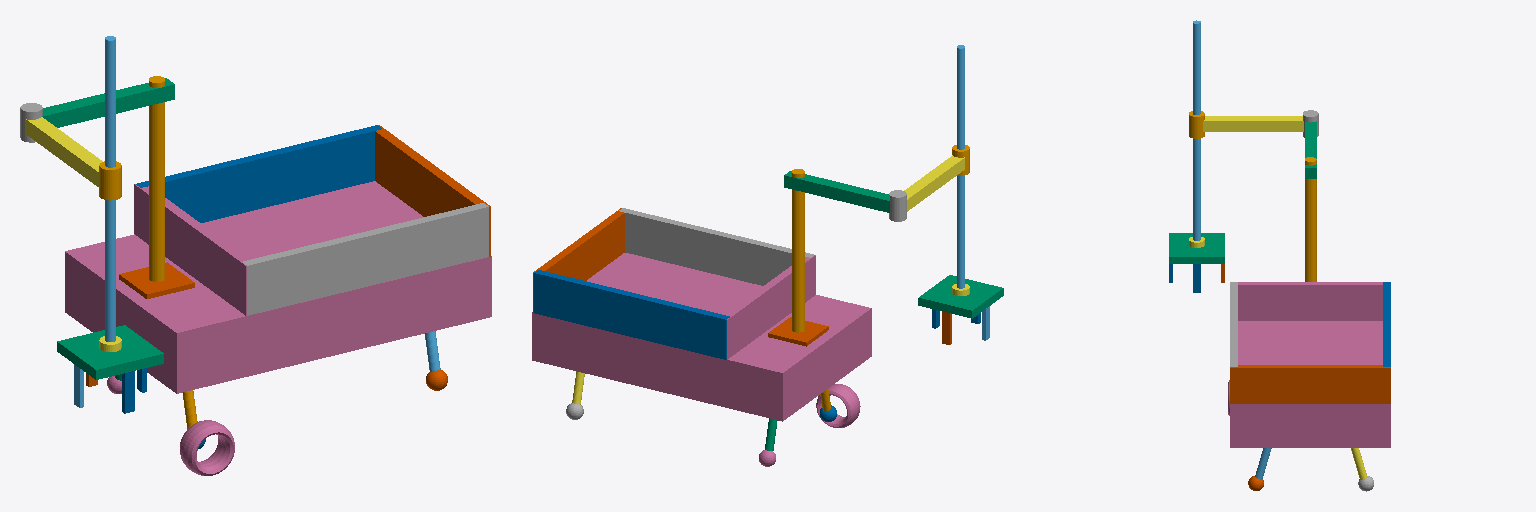
--- What the picture shows (computed from the rendered views, not written in the file) ---
The picture shows the robot from 3 angles, left to right: view 1: azimuth 30°, elevation 25°; view 2: azimuth 150°, elevation 25°; view 3: azimuth 270°, elevation 25°; orthographic projection.
Robot: robot — 34 links, 33 joints (3 revolute, 4 continuous, 5 prismatic, 21 fixed); root link chasis_link; default pose: all joints at 0.
Links seen in each view (by area): view 1: chasis_link, Cube_trailer_link, Cube_trailer_2_link, Cube_trailer_4_link, Cube_trailer_3_link, hand_cube_link, arm_cilynder_1_link, arm_cilynder_2_link, arm_cube_1_link, wheel_link, arm_cube_2_link, base_arm_cube_link (+1 smaller); view 2: chasis_link, Cube_trailer_2_link, Cube_trailer_link, Cube_trailer_4_link, Cube_trailer_3_link, hand_cube_link, arm_cilynder_1_link, arm_cube_1_link, arm_cilynder_2_link, arm_cube_2_link, wheel_link, base_arm_cube_link (+1 smaller); view 3: chasis_link, Cube_trailer_3_link, Cube_trailer_4_link, arm_cube_2_link, arm_cilynder_2_link, hand_cube_link, arm_cilynder_1_link, Cube_trailer_2_link, Cube_trailer_link, arm_cube_1_link.
Boxes of the visible links, <box> form: chasis_link: <box>65,181,491,393</box>; Cube_trailer_link: <box>243,203,488,315</box>; Cube_trailer_2_link: <box>136,125,381,222</box>; Cube_trailer_4_link: <box>134,184,249,315</box>; Cube_trailer_3_link: <box>375,125,490,256</box>; hand_cube_link: <box>57,325,163,379</box>; arm_cilynder_1_link: <box>149,76,164,281</box>; arm_cilynder_2_link: <box>105,36,115,341</box>; arm_cube_1_link: <box>42,78,174,127</box>; wheel_link: <box>180,420,234,475</box>; arm_cube_2_link: <box>26,117,102,186</box>; base_arm_cube_link: <box>119,262,194,298</box>; chasis_link: <box>532,253,871,421</box>; Cube_trailer_2_link: <box>534,270,729,359</box>; Cube_trailer_link: <box>619,208,814,285</box>; Cube_trailer_4_link: <box>725,255,815,359</box>; Cube_trailer_3_link: <box>533,208,624,312</box>; hand_cube_link: <box>918,275,1003,318</box>; arm_cilynder_1_link: <box>792,169,804,332</box>; arm_cube_1_link: <box>784,171,889,212</box>; arm_cilynder_2_link: <box>957,45,964,288</box>; arm_cube_2_link: <box>904,155,964,211</box>; wheel_link: <box>816,384,860,427</box>; base_arm_cube_link: <box>768,317,828,346</box>; chasis_link: <box>1230,321,1390,447</box>; Cube_trailer_3_link: <box>1230,365,1390,403</box>; Cube_trailer_4_link: <box>1238,282,1382,320</box>; arm_cube_2_link: <box>1203,116,1303,131</box>; arm_cilynder_2_link: <box>1193,20,1200,240</box>; hand_cube_link: <box>1169,233,1224,263</box>; arm_cilynder_1_link: <box>1305,157,1316,281</box>; Cube_trailer_2_link: <box>1383,282,1390,366</box>; Cube_trailer_link: <box>1230,282,1237,366</box>; arm_cube_1_link: <box>1305,121,1316,178</box>.
Size in the robot's own frame: 4.52 by 2.76 by 4.8 metres.
Meshes: 8 distinct files referenced, 1 mesh visuals loaded (1 Collada DAE); not drawn: 7 (reference not matched to a file when rendering).

URDF robot description (robot):
<robot name="robot" version="1.0">
  <joint name="Cone_link_joint" type="fixed">
    <origin rpy="1.57080 0.00000 0.00000" xyz="0.00000 -0.12479 0.00000"/>
    <parent link="Sphere_link"/>
    <child link="Cone_link"/>
  </joint>
  <joint name="Cone_w2_link_joint" type="fixed">
    <origin rpy="1.57080 0.00000 0.00000" xyz="-0.00000 -0.12479 -0.00000"/>
    <parent link="Sphere_w2_link"/>
    <child link="Cone_w2_link"/>
  </joint>
  <joint name="Cone_w3_link_joint" type="fixed">
    <origin rpy="1.57080 -0.00000 -0.00000" xyz="-0.00000 -0.12479 0.00000"/>
    <parent link="Sphere_w3_link"/>
    <child link="Cone_w3_link"/>
  </joint>
  <joint name="Cone_w4_link_joint" type="fixed">
    <origin rpy="1.57080 -0.00000 -0.00000" xyz="0.00000 -0.12479 -0.00000"/>
    <parent link="Sphere_w4_link"/>
    <child link="Cone_w4_link"/>
  </joint>
  <joint name="Cube_trailer_2_link_joint" type="fixed">
    <origin rpy="0.00000 0.00000 0.00000" xyz="0.35456 0.85200 0.70968"/>
    <parent link="chasis_link"/>
    <child link="Cube_trailer_2_link"/>
  </joint>
  <joint name="Cube_trailer_3_link_joint" type="fixed">
    <origin rpy="0.00000 0.00000 1.57080" xyz="1.57008 -0.09844 0.70917"/>
    <parent link="chasis_link"/>
    <child link="Cube_trailer_3_link"/>
  </joint>
  <joint name="Cube_trailer_4_link_joint" type="fixed">
    <origin rpy="0.00000 0.00000 1.57080" xyz="-0.85539 -0.09844 0.70917"/>
    <parent link="chasis_link"/>
    <child link="Cube_trailer_4_link"/>
  </joint>
  <joint name="Cube_trailer_link_joint" type="fixed">
    <origin rpy="0.00000 0.00000 0.00000" xyz="0.35456 -1.04857 0.70968"/>
    <parent link="chasis_link"/>
    <child link="Cube_trailer_link"/>
  </joint>
  <joint name="Cylinder_link_joint" type="fixed">
    <origin rpy="-0.26180 0.00000 0.00000" xyz="-1.25000 -0.65807 -0.39906"/>
    <parent link="chasis_link"/>
    <child link="Cylinder_link"/>
  </joint>
  <joint name="Cylinder_w2_link_joint" type="fixed">
    <origin rpy="-0.26180 0.00000 0.00000" xyz="1.25000 -0.65807 -0.39860"/>
    <parent link="chasis_link"/>
    <child link="Cylinder_w2_link"/>
  </joint>
  <joint name="Cylinder_w3_link_joint" type="fixed">
    <origin rpy="-0.26180 -0.00000 -3.14159" xyz="-1.25000 0.47479 -0.40695"/>
    <parent link="chasis_link"/>
    <child link="Cylinder_w3_link"/>
  </joint>
  <joint name="Cylinder_w4_link_joint" type="fixed">
    <origin rpy="-0.26180 -0.00000 -3.14159" xyz="1.25000 0.47479 -0.40719"/>
    <parent link="chasis_link"/>
    <child link="Cylinder_w4_link"/>
  </joint>
  <joint name="Sphere_link_joint" type="fixed">
    <origin rpy="0.26180 0.00000 0.00000" xyz="0.00000 -0.01047 -0.41352"/>
    <parent link="Cylinder_link"/>
    <child link="Sphere_link"/>
  </joint>
  <joint name="Sphere_w2_link_joint" type="fixed">
    <origin rpy="0.26180 0.00000 0.00000" xyz="0.00000 -0.01047 -0.41352"/>
    <parent link="Cylinder_w2_link"/>
    <child link="Sphere_w2_link"/>
  </joint>
  <joint name="Sphere_w3_link_joint" type="fixed">
    <origin rpy="0.26180 0.00000 0.00000" xyz="-0.00000 -0.01267 -0.40736"/>
    <parent link="Cylinder_w3_link"/>
    <child link="Sphere_w3_link"/>
  </joint>
  <joint name="Sphere_w4_link_joint" type="fixed">
    <origin rpy="0.26180 0.00000 0.00000" xyz="-0.00000 -0.01267 -0.40736"/>
    <parent link="Cylinder_w4_link"/>
    <child link="Sphere_w4_link"/>
  </joint>
  <joint name="arm_cilynder_1_link_joint" type="revolute">
    <limit lower="-3.14000" upper="3.14000" effort="0.00000" velocity="0.00000"/>
    <origin rpy="0.00000 0.00000 0.00000" xyz="0.00000 0.00000 0.76594"/>
    <parent link="base_arm_cube_link"/>
    <child link="arm_cilynder_1_link"/>
    <axis xyz="0.00000 0.00000 1.00000"/>
  </joint>
  <joint name="arm_cilynder_2_link_joint" type="prismatic">
    <limit lower="-1.20000" upper="1.30000" effort="0.00000" velocity="0.00000"/>
    <origin rpy="0.00000 0.00000 0.00000" xyz="0.00000 -0.00000 1.05000"/>
    <parent link="cylinder_jnt_2_link"/>
    <child link="arm_cilynder_2_link"/>
    <axis xyz="0.00000 0.00000 1.00000"/>
  </joint>
  <joint name="arm_cube_1_link_joint" type="fixed">
    <origin rpy="0.00000 0.00000 0.00000" xyz="-0.60749 0.00000 0.58880"/>
    <parent link="arm_cilynder_1_link"/>
    <child link="arm_cube_1_link"/>
  </joint>
  <joint name="arm_cube_2_link_joint" type="fixed">
    <origin rpy="0.00000 0.00000 1.57080" xyz="-0.01161 -0.70550 0.00000"/>
    <parent link="cylinder_jnt_1_link"/>
    <child link="arm_cube_2_link"/>
  </joint>
  <joint name="back_finger_link_joint" type="prismatic">
    <limit lower="0.06000" upper="0.00000" effort="0.00000" velocity="0.00000"/>
    <origin rpy="0.00000 0.00000 1.57080" xyz="0.32481 -0.00033 -0.24871"/>
    <parent link="hand_cube_link"/>
    <child link="back_finger_link"/>
    <axis xyz="0.00000 1.00000 0.00000"/>
  </joint>
  <joint name="base_arm_cube_link_joint" type="fixed">
    <origin rpy="0.00000 0.00000 0.00000" xyz="-1.25000 -0.10000 0.48960"/>
    <parent link="chasis_link"/>
    <child link="base_arm_cube_link"/>
  </joint>
  <joint name="cylinder_jnt_1_link_joint" type="revolute">
    <limit lower="-4.34000" upper="1.20000" effort="0.00000" velocity="0.00000"/>
    <origin rpy="0.00000 0.00000 0.00000" xyz="-0.68724 0.00000 0.50820"/>
    <parent link="arm_cube_1_link"/>
    <child link="cylinder_jnt_1_link"/>
    <axis xyz="0.00000 0.00000 1.00000"/>
  </joint>
  <joint name="cylinder_jnt_2_link_joint" type="fixed">
    <origin rpy="0.00000 0.00000 -1.57080" xyz="-0.70726 -0.01063 0.00000"/>
    <parent link="arm_cube_2_link"/>
    <child link="cylinder_jnt_2_link"/>
  </joint>
  <joint name="front_finger_link_joint" type="prismatic">
    <limit lower="0.06000" upper="0.00000" effort="0.00000" velocity="0.00000"/>
    <origin rpy="0.00000 0.00000 1.57080" xyz="-0.32415 -0.00033 -0.24741"/>
    <parent link="hand_cube_link"/>
    <child link="front_finger_link"/>
    <axis xyz="0.00000 1.00000 0.00000"/>
  </joint>
  <joint name="hand_cube_link_joint" type="fixed">
    <origin rpy="0.00000 0.00000 0.00000" xyz="0.00000 -0.00000 -0.07303"/>
    <parent link="hand_cylinder_link"/>
    <child link="hand_cube_link"/>
  </joint>
  <joint name="hand_cylinder_link_joint" type="revolute">
    <limit lower="-3.14000" upper="3.14000" effort="0.00000" velocity="0.00000"/>
    <origin rpy="0.00000 0.00000 0.00000" xyz="0.00000 -0.00000 -2.67343"/>
    <parent link="arm_cilynder_2_link"/>
    <child link="hand_cylinder_link"/>
    <axis xyz="0.00000 0.00000 1.00000"/>
  </joint>
  <joint name="left_finger_link_joint" type="prismatic">
    <limit lower="0.06000" upper="0.00000" effort="0.00000" velocity="0.00000"/>
    <origin rpy="0.00000 0.00000 0.00000" xyz="-0.00429 -0.32443 -0.19256"/>
    <parent link="hand_cube_link"/>
    <child link="left_finger_link"/>
    <axis xyz="0.00000 1.00000 0.00000"/>
  </joint>
  <joint name="right_finger_link_joint" type="prismatic">
    <limit lower="0.06000" upper="0.00000" effort="0.00000" velocity="0.00000"/>
    <origin rpy="0.00000 0.00000 0.00000" xyz="-0.00429 0.32378 -0.19256"/>
    <parent link="hand_cube_link"/>
    <child link="right_finger_link"/>
    <axis xyz="0.00000 1.00000 0.00000"/>
  </joint>
  <joint name="wheel_link_joint" type="continuous">
    <limit lower="0" upper="0" effort="0.00000" velocity="0.00000"/>
    <origin rpy="0.00000 0.00000 0.00000" xyz="0.00000 0.00000 0.10000"/>
    <parent link="Cone_link"/>
    <child link="wheel_link"/>
    <axis xyz="0.00000 0.00000 1.00000"/>
  </joint>
  <joint name="wheel_w2_link_joint" type="continuous">
    <limit lower="0" upper="0" effort="0.00000" velocity="0.00000"/>
    <origin rpy="0.00000 0.00000 0.00000" xyz="0.00000 0.00000 0.10000"/>
    <parent link="Cone_w2_link"/>
    <child link="wheel_w2_link"/>
    <axis xyz="0.00000 0.00000 1.00000"/>
  </joint>
  <joint name="wheel_w3_link_joint" type="continuous">
    <limit lower="0" upper="0" effort="0.00000" velocity="0.00000"/>
    <origin rpy="-0.00000 0.00000 -0.00000" xyz="-0.00000 -0.00000 0.10000"/>
    <parent link="Cone_w3_link"/>
    <child link="wheel_w3_link"/>
    <axis xyz="0.00000 0.00000 1.00000"/>
  </joint>
  <joint name="wheel_w4_link_joint" type="continuous">
    <limit lower="0" upper="0" effort="0.00000" velocity="0.00000"/>
    <origin rpy="-0.00000 0.00000 -0.00000" xyz="0.00000 -0.00000 0.10000"/>
    <parent link="Cone_w4_link"/>
    <child link="wheel_w4_link"/>
    <axis xyz="0.00000 0.00000 1.00000"/>
  </joint>
  <link name="Cone_link">
    <collision name="Cone_collision">
      <origin rpy="0.00000 0.00000 0.00000" xyz="0.00000 0.00000 0.00000"/>
      <geometry>
        <mesh filename="../meshes/dae/Cone.001.dae" scale="0.10000 0.10000 0.10000"/>
      </geometry>
    </collision>
    <inertial>
      <inertia ixx="0.00148" ixy="0.00000" ixz="-0.00000" iyy="0.00089" iyz="-0.00000" izz="0.00148"/>
      <origin rpy="0.00000 0.00000 0.00000" xyz="0.00000 -0.00000 -0.05000"/>
      <mass value="0.30000"/>
    </inertial>
    <visual name="Cone">
      <origin rpy="0.00000 0.00000 0.00000" xyz="0.00000 -0.00000 0.00000"/>
      <geometry>
        <mesh filename="../meshes/dae/Cone.001.dae" scale="0.10000 0.10000 0.10000"/>
      </geometry>
    </visual>
  </link>
  <link name="Cone_w2_link">
    <collision name="Cone_w2_collision">
      <origin rpy="0.00000 0.00000 0.00000" xyz="0.00000 -0.00000 -0.00000"/>
      <geometry>
        <mesh filename="../meshes/dae/Cone.002.dae" scale="0.10000 0.10000 0.10000"/>
      </geometry>
    </collision>
    <inertial>
      <inertia ixx="0.00148" ixy="0.00000" ixz="-0.00000" iyy="0.00089" iyz="-0.00000" izz="0.00148"/>
      <origin rpy="0.00000 0.00000 0.00000" xyz="0.00000 -0.00000 -0.05000"/>
      <mass value="0.30000"/>
    </inertial>
    <visual name="Cone_w2">
      <origin rpy="0.00000 0.00000 0.00000" xyz="0.00000 -0.00000 -0.00000"/>
      <geometry>
        <mesh filename="../meshes/dae/Cone.002.dae" scale="0.10000 0.10000 0.10000"/>
      </geometry>
    </visual>
  </link>
  <link name="Cone_w3_link">
    <collision name="Cone_w3_collision">
      <origin rpy="0.00000 0.00000 -3.14159" xyz="0.00000 -0.00000 0.00000"/>
      <geometry>
        <mesh filename="../meshes/dae/Cone.003.dae" scale="0.10000 0.10000 0.10000"/>
      </geometry>
    </collision>
    <inertial>
      <inertia ixx="0.00148" ixy="0.00000" ixz="0.00000" iyy="0.00089" iyz="0.00000" izz="0.00148"/>
      <origin rpy="0.00000 0.00000 0.00000" xyz="0.00000 -0.00000 -0.05000"/>
      <mass value="0.30000"/>
    </inertial>
    <visual name="Cone_w3">
      <origin rpy="-0.00000 0.00000 -0.00000" xyz="0.00000 -0.00000 0.00000"/>
      <geometry>
        <mesh filename="../meshes/dae/Cone.003.dae" scale="0.10000 0.10000 0.10000"/>
      </geometry>
    </visual>
  </link>
  <link name="Cone_w4_link">
    <collision name="Cone_w4_collision">
      <origin rpy="0.00000 0.00000 -3.14159" xyz="0.00000 -0.00000 0.00000"/>
      <geometry>
        <mesh filename="../meshes/dae/Cone.007.dae" scale="0.10000 0.10000 0.10000"/>
      </geometry>
    </collision>
    <inertial>
      <inertia ixx="0.00148" ixy="0.00000" ixz="0.00000" iyy="0.00089" iyz="0.00000" izz="0.00148"/>
      <origin rpy="0.00000 0.00000 0.00000" xyz="0.00000 -0.00000 -0.05000"/>
      <mass value="0.30000"/>
    </inertial>
    <visual name="Cone_w4">
      <origin rpy="-0.00000 0.00000 -0.00000" xyz="0.00000 -0.00000 0.00000"/>
      <geometry>
        <mesh filename="../meshes/dae/Cone.007.dae" scale="0.10000 0.10000 0.10000"/>
      </geometry>
    </visual>
  </link>
  <link name="Cube_trailer_2_link">
    <collision name="Cube_trailer_2_collision">
      <origin rpy="0.00000 0.00000 0.00000" xyz="0.00000 0.00000 0.00000"/>
      <geometry>
        <box size="2.50000 0.10000 0.50000"/>
      </geometry>
    </collision>
    <inertial>
      <inertia ixx="0.65000" ixy="0.00000" ixz="0.00000" iyy="16.25000" iyz="0.00000" izz="15.65000"/>
      <origin rpy="0.00000 0.00000 0.00000" xyz="0.00000 -0.00000 0.00000"/>
      <mass value="30.00000"/>
    </inertial>
    <visual name="Cube_trailer_2">
      <origin rpy="0.00000 0.00000 0.00000" xyz="-0.00000 -0.00000 0.00000"/>
      <geometry>
        <box size="2.50000 0.10000 0.50000"/>
      </geometry>
    </visual>
  </link>
  <link name="Cube_trailer_3_link">
    <collision name="Cube_trailer_3_collision">
      <origin rpy="0.00000 0.00000 0.00000" xyz="-0.00000 -0.00000 0.00000"/>
      <geometry>
        <box size="2.00000 0.10000 0.50000"/>
      </geometry>
    </collision>
    <inertial>
      <inertia ixx="7.08333" ixy="0.00000" ixz="0.00000" iyy="0.43333" iyz="0.00000" izz="6.68333"/>
      <origin rpy="0.00000 0.00000 0.00000" xyz="-0.00000 0.00000 0.00000"/>
      <mass value="20.00000"/>
    </inertial>
    <visual name="Cube_trailer_3">
      <origin rpy="0.00000 0.00000 0.00000" xyz="-0.00000 0.00000 0.00000"/>
      <geometry>
        <box size="2.00000 0.10000 0.50000"/>
      </geometry>
    </visual>
  </link>
  <link name="Cube_trailer_4_link">
    <collision name="Cube_trailer_4_collision">
      <origin rpy="0.00000 0.00000 0.00000" xyz="-0.00000 0.00000 0.00000"/>
      <geometry>
        <box size="2.00000 0.10000 0.50000"/>
      </geometry>
    </collision>
    <inertial>
      <inertia ixx="7.08333" ixy="0.00000" ixz="0.00000" iyy="0.43333" iyz="0.00000" izz="6.68333"/>
      <origin rpy="0.00000 0.00000 0.00000" xyz="0.00000 0.00000 0.00000"/>
      <mass value="20.00000"/>
    </inertial>
    <visual name="Cube_trailer_4">
      <origin rpy="0.00000 0.00000 0.00000" xyz="-0.00000 0.00000 0.00000"/>
      <geometry>
        <box size="2.00000 0.10000 0.50000"/>
      </geometry>
    </visual>
  </link>
  <link name="Cube_trailer_link">
    <collision name="Cube_trailer_collision">
      <origin rpy="0.00000 0.00000 0.00000" xyz="0.00000 0.00000 0.00000"/>
      <geometry>
        <box size="2.50000 0.10000 0.50000"/>
      </geometry>
    </collision>
    <inertial>
      <inertia ixx="0.65000" ixy="0.00000" ixz="0.00000" iyy="16.25000" iyz="0.00000" izz="15.65000"/>
      <origin rpy="0.00000 0.00000 0.00000" xyz="0.00000 0.00000 0.00000"/>
      <mass value="30.00000"/>
    </inertial>
    <visual name="Cube_trailer">
      <origin rpy="0.00000 0.00000 0.00000" xyz="-0.00000 0.00000 0.00000"/>
      <geometry>
        <box size="2.50000 0.10000 0.50000"/>
      </geometry>
    </visual>
  </link>
  <link name="Cylinder_link">
    <collision name="Cylinder_collision">
      <origin rpy="0.00000 0.00000 0.00000" xyz="0.00000 0.00000 0.00000"/>
      <geometry>
        <cylinder radius="0.05000" length="0.75000"/>
      </geometry>
    </collision>
    <inertial>
      <inertia ixx="0.03800" ixy="0.00000" ixz="0.00000" iyy="0.03552" iyz="-0.00925" izz="0.00348"/>
      <origin rpy="0.00000 0.00000 0.00000" xyz="0.00000 0.00000 -0.00000"/>
      <mass value="0.80000"/>
    </inertial>
    <visual name="Cylinder">
      <origin rpy="0.00000 0.00000 0.00000" xyz="0.00000 0.00000 -0.00000"/>
      <geometry>
        <cylinder radius="0.05000" length="0.75000"/>
      </geometry>
    </visual>
  </link>
  <link name="Cylinder_w2_link">
    <collision name="Cylinder_w2_collision">
      <origin rpy="0.00000 0.00000 0.00000" xyz="0.00000 0.00000 -0.00000"/>
      <geometry>
        <cylinder radius="0.05000" length="0.75000"/>
      </geometry>
    </collision>
    <inertial>
      <inertia ixx="0.03800" ixy="0.00000" ixz="0.00000" iyy="0.03552" iyz="-0.00925" izz="0.00348"/>
      <origin rpy="0.00000 0.00000 0.00000" xyz="0.00000 0.00000 -0.00000"/>
      <mass value="0.80000"/>
    </inertial>
    <visual name="Cylinder_w2">
      <origin rpy="0.00000 0.00000 0.00000" xyz="0.00000 0.00000 -0.00000"/>
      <geometry>
        <cylinder radius="0.05000" length="0.75000"/>
      </geometry>
    </visual>
  </link>
  <link name="Cylinder_w3_link">
    <collision name="Cylinder_w3_collision">
      <origin rpy="-0.00000 -0.00000 3.14159" xyz="0.00000 -0.00000 0.00000"/>
      <geometry>
        <cylinder radius="0.05000" length="0.75000"/>
      </geometry>
    </collision>
    <inertial>
      <inertia ixx="0.03800" ixy="0.00000" ixz="-0.00000" iyy="0.03552" iyz="0.00925" izz="0.00348"/>
      <origin rpy="0.00000 0.00000 0.00000" xyz="0.00000 -0.00000 0.00000"/>
      <mass value="0.80000"/>
    </inertial>
    <visual name="Cylinder_w3">
      <origin rpy="0.00000 -0.00000 0.00000" xyz="0.00000 -0.00000 0.00000"/>
      <geometry>
        <cylinder radius="0.05000" length="0.75000"/>
      </geometry>
    </visual>
  </link>
  <link name="Cylinder_w4_link">
    <collision name="Cylinder_w4_collision">
      <origin rpy="-0.00000 -0.00000 3.14159" xyz="-0.00000 0.00000 0.00000"/>
      <geometry>
        <cylinder radius="0.05000" length="0.75000"/>
      </geometry>
    </collision>
    <inertial>
      <inertia ixx="0.03800" ixy="0.00000" ixz="-0.00000" iyy="0.03552" iyz="0.00925" izz="0.00348"/>
      <origin rpy="0.00000 0.00000 0.00000" xyz="-0.00000 0.00000 0.00000"/>
      <mass value="0.80000"/>
    </inertial>
    <visual name="Cylinder_w4">
      <origin rpy="0.00000 -0.00000 0.00000" xyz="-0.00000 -0.00000 0.00000"/>
      <geometry>
        <cylinder radius="0.05000" length="0.75000"/>
      </geometry>
    </visual>
  </link>
  <link name="Sphere_link">
    <collision name="Sphere_collision">
      <origin rpy="0.00000 0.00000 0.00000" xyz="0.00000 0.00000 0.00000"/>
      <geometry>
        <sphere radius="0.10000"/>
      </geometry>
    </collision>
    <inertial>
      <inertia ixx="0.00120" ixy="0.00000" ixz="0.00000" iyy="0.00120" iyz="0.00000" izz="0.00120"/>
      <origin rpy="0.00000 0.00000 0.00000" xyz="0.00000 0.00000 0.00000"/>
      <mass value="0.30000"/>
    </inertial>
    <visual name="Sphere">
      <origin rpy="0.00000 0.00000 0.00000" xyz="0.00000 0.00000 0.00000"/>
      <geometry>
        <sphere radius="0.10000"/>
      </geometry>
    </visual>
  </link>
  <link name="Sphere_w2_link">
    <collision name="Sphere_w2_collision">
      <origin rpy="0.00000 0.00000 0.00000" xyz="-0.00000 -0.00000 -0.00000"/>
      <geometry>
        <sphere radius="0.10000"/>
      </geometry>
    </collision>
    <inertial>
      <inertia ixx="0.00120" ixy="0.00000" ixz="0.00000" iyy="0.00120" iyz="0.00000" izz="0.00120"/>
      <origin rpy="0.00000 0.00000 0.00000" xyz="-0.00000 -0.00000 0.00000"/>
      <mass value="0.30000"/>
    </inertial>
    <visual name="Sphere_w2">
      <origin rpy="0.00000 0.00000 0.00000" xyz="-0.00000 -0.00000 0.00000"/>
      <geometry>
        <sphere radius="0.10000"/>
      </geometry>
    </visual>
  </link>
  <link name="Sphere_w3_link">
    <collision name="Sphere_w3_collision">
      <origin rpy="0.00000 0.00000 3.14159" xyz="0.00000 -0.00000 -0.00000"/>
      <geometry>
        <sphere radius="0.10000"/>
      </geometry>
    </collision>
    <inertial>
      <inertia ixx="0.00120" ixy="0.00000" ixz="0.00000" iyy="0.00120" iyz="-0.00000" izz="0.00120"/>
      <origin rpy="0.00000 0.00000 0.00000" xyz="0.00000 -0.00000 -0.00000"/>
      <mass value="0.30000"/>
    </inertial>
    <visual name="Sphere_w3">
      <origin rpy="0.00000 0.00000 0.00000" xyz="0.00000 -0.00000 -0.00000"/>
      <geometry>
        <sphere radius="0.10000"/>
      </geometry>
    </visual>
  </link>
  <link name="Sphere_w4_link">
    <collision name="Sphere_w4_collision">
      <origin rpy="0.00000 0.00000 3.14159" xyz="0.00000 -0.00000 -0.00000"/>
      <geometry>
        <sphere radius="0.10000"/>
      </geometry>
    </collision>
    <inertial>
      <inertia ixx="0.00120" ixy="0.00000" ixz="0.00000" iyy="0.00120" iyz="-0.00000" izz="0.00120"/>
      <origin rpy="0.00000 0.00000 0.00000" xyz="0.00000 -0.00000 -0.00000"/>
      <mass value="0.30000"/>
    </inertial>
    <visual name="Sphere_w4">
      <origin rpy="0.00000 0.00000 0.00000" xyz="0.00000 -0.00000 -0.00000"/>
      <geometry>
        <sphere radius="0.10000"/>
      </geometry>
    </visual>
  </link>
  <link name="arm_cilynder_1_link">
    <collision name="arm_cilynder_1_collision">
      <origin rpy="0.00000 0.00000 0.00000" xyz="-0.00000 -0.00000 0.22080"/>
      <geometry>
        <cylinder radius="0.07500" length="2.00000"/>
      </geometry>
    </collision>
    <inertial>
      <inertia ixx="0.28336" ixy="0.00000" ixz="0.00000" iyy="0.28336" iyz="0.00000" izz="0.00422"/>
      <origin rpy="0.00000 0.00000 0.00000" xyz="-0.00000 0.00000 0.00000"/>
      <mass value="1.50000"/>
    </inertial>
    <visual name="arm_cilynder_1">
      <origin rpy="0.00000 0.00000 0.00000" xyz="-0.00000 -0.00000 0.22080"/>
      <geometry>
        <cylinder radius="0.07500" length="2.00000"/>
      </geometry>
    </visual>
  </link>
  <link name="arm_cilynder_2_link">
    <collision name="arm_cilynder_2_collision">
      <origin rpy="0.00000 0.00000 0.00000" xyz="0.00000 -0.00000 -1.14646"/>
      <geometry>
        <cylinder radius="0.05000" length="3.00000"/>
      </geometry>
    </collision>
    <inertial>
      <inertia ixx="1.12594" ixy="0.00000" ixz="0.00000" iyy="1.12594" iyz="0.00000" izz="0.00188"/>
      <origin rpy="0.00000 0.00000 0.00000" xyz="0.00000 -0.00000 0.00000"/>
      <mass value="1.50000"/>
    </inertial>
    <visual name="arm_cilynder_2">
      <origin rpy="0.00000 0.00000 0.00000" xyz="-0.00000 -0.00000 -1.14646"/>
      <geometry>
        <cylinder radius="0.05000" length="3.00000"/>
      </geometry>
    </visual>
  </link>
  <link name="arm_cube_1_link">
    <collision name="arm_cube_1_collision">
      <origin rpy="0.00000 0.00000 0.00000" xyz="-0.00000 0.00000 0.50820"/>
      <geometry>
        <box size="1.50000 0.15000 0.15000"/>
      </geometry>
    </collision>
    <inertial>
      <inertia ixx="0.00563" ixy="0.00000" ixz="0.00000" iyy="0.28406" iyz="0.00000" izz="0.28406"/>
      <origin rpy="0.00000 0.00000 0.00000" xyz="-0.00000 0.00000 0.00000"/>
      <mass value="1.50000"/>
    </inertial>
    <visual name="arm_cube_1">
      <origin rpy="0.00000 0.00000 0.00000" xyz="-0.00000 -0.00000 0.50820"/>
      <geometry>
        <box size="1.50000 0.15000 0.15000"/>
      </geometry>
    </visual>
  </link>
  <link name="arm_cube_2_link">
    <collision name="arm_cube_2_collision">
      <origin rpy="0.00000 0.00000 0.00000" xyz="-0.00000 0.00000 0.00000"/>
      <geometry>
        <box size="1.50000 0.15000 0.15000"/>
      </geometry>
    </collision>
    <inertial>
      <inertia ixx="0.28406" ixy="0.00000" ixz="0.00000" iyy="0.00563" iyz="0.00000" izz="0.28406"/>
      <origin rpy="0.00000 0.00000 0.00000" xyz="-0.00000 0.00000 0.00000"/>
      <mass value="1.50000"/>
    </inertial>
    <visual name="arm_cube_2">
      <origin rpy="0.00000 0.00000 0.00000" xyz="-0.00000 0.00000 0.00000"/>
      <geometry>
        <box size="1.50000 0.15000 0.15000"/>
      </geometry>
    </visual>
  </link>
  <link name="back_finger_link">
    <collision name="back_finger_collision">
      <origin rpy="0.00000 0.00000 0.00000" xyz="-0.00000 0.00000 0.00000"/>
      <geometry>
        <box size="0.10000 0.05000 0.40000"/>
      </geometry>
    </collision>
    <inertial>
      <inertia ixx="0.00142" ixy="0.00000" ixz="0.00000" iyy="0.00135" iyz="0.00000" izz="0.00010"/>
      <origin rpy="0.00000 0.00000 0.00000" xyz="-0.00000 0.00000 0.00000"/>
      <mass value="0.10000"/>
    </inertial>
    <visual name="back_finger">
      <origin rpy="0.00000 0.00000 0.00000" xyz="0.00000 0.00000 0.00000"/>
      <geometry>
        <box size="0.10000 0.05000 0.40000"/>
      </geometry>
    </visual>
  </link>
  <link name="base_arm_cube_link">
    <collision name="base_arm_cube_collision">
      <origin rpy="0.00000 0.00000 0.00000" xyz="-0.00000 0.00000 -0.00000"/>
      <geometry>
        <box size="0.50000 0.50000 0.05000"/>
      </geometry>
    </collision>
    <inertial>
      <inertia ixx="0.01052" ixy="0.00000" ixz="0.00000" iyy="0.01052" iyz="0.00000" izz="0.02083"/>
      <origin rpy="0.00000 0.00000 0.00000" xyz="-0.00000 0.00000 -0.00000"/>
      <mass value="0.50000"/>
    </inertial>
    <visual name="base_arm_cube">
      <origin rpy="0.00000 0.00000 0.00000" xyz="-0.00000 0.00000 -0.00000"/>
      <geometry>
        <box size="0.50000 0.50000 0.05000"/>
      </geometry>
    </visual>
  </link>
  <link name="chasis_link">
    <collision name="chasis_collision">
      <origin rpy="0.00000 0.00000 0.00000" xyz="0.00000 -0.09507 0.16631"/>
      <geometry>
        <mesh filename="../meshes/dae/Cube.004.dae" scale="1.62500 1.00000 0.30000"/>
      </geometry>
    </collision>
    <inertial>
      <inertia ixx="109.00000" ixy="0.00000" ixz="0.00000" iyy="273.06250" iyz="0.00000" izz="364.06250"/>
      <origin rpy="0.00000 0.00000 0.00000" xyz="0.00000 -0.10089 0.16631"/>
      <mass value="300.00000"/>
    </inertial>
    <visual name="chasis">
      <origin rpy="0.00000 0.00000 0.00000" xyz="0.00000 -0.10089 0.16631"/>
      <geometry>
        <box size="3.25000 2.00000 0.60000"/>
      </geometry>
    </visual>
  </link>
  <link name="cylinder_jnt_1_link">
    <collision name="cylinder_jnt_1_collision">
      <origin rpy="0.00000 0.00000 0.00000" xyz="-0.00000 -0.00000 0.00000"/>
      <geometry>
        <cylinder radius="0.10000" length="0.30000"/>
      </geometry>
    </collision>
    <inertial>
      <inertia ixx="0.00250" ixy="0.00000" ixz="0.00000" iyy="0.00250" iyz="0.00000" izz="0.00125"/>
      <origin rpy="0.00000 0.00000 0.00000" xyz="-0.00000 -0.00000 0.00000"/>
      <mass value="0.25000"/>
    </inertial>
    <visual name="cylinder_jnt_1">
      <origin rpy="0.00000 0.00000 0.00000" xyz="-0.00000 -0.00000 0.00000"/>
      <geometry>
        <cylinder radius="0.10000" length="0.30000"/>
      </geometry>
    </visual>
  </link>
  <link name="cylinder_jnt_2_link">
    <collision name="cylinder_jnt_2_collision">
      <origin rpy="0.00000 0.00000 0.00000" xyz="0.00000 -0.00000 0.00000"/>
      <geometry>
        <cylinder radius="0.10000" length="0.30000"/>
      </geometry>
    </collision>
    <inertial>
      <inertia ixx="0.00250" ixy="0.00000" ixz="0.00000" iyy="0.00250" iyz="0.00000" izz="0.00125"/>
      <origin rpy="0.00000 0.00000 0.00000" xyz="-0.00000 -0.00000 0.00000"/>
      <mass value="0.25000"/>
    </inertial>
    <visual name="cylinder_jnt_2">
      <origin rpy="0.00000 0.00000 0.00000" xyz="-0.00000 -0.00000 0.00000"/>
      <geometry>
        <cylinder radius="0.10000" length="0.30000"/>
      </geometry>
    </visual>
  </link>
  <link name="front_finger_link">
    <collision name="front_finger_collision">
      <origin rpy="0.00000 0.00000 0.00000" xyz="-0.00000 0.00000 0.00000"/>
      <geometry>
        <box size="0.10000 0.05000 0.40000"/>
      </geometry>
    </collision>
    <inertial>
      <inertia ixx="0.00142" ixy="0.00000" ixz="0.00000" iyy="0.00135" iyz="0.00000" izz="0.00010"/>
      <origin rpy="0.00000 0.00000 0.00000" xyz="-0.00000 0.00000 0.00000"/>
      <mass value="0.10000"/>
    </inertial>
    <visual name="front_finger">
      <origin rpy="0.00000 0.00000 0.00000" xyz="-0.00000 0.00000 0.00000"/>
      <geometry>
        <box size="0.10000 0.05000 0.40000"/>
      </geometry>
    </visual>
  </link>
  <link name="hand_cube_link">
    <collision name="hand_cube_collision">
      <origin rpy="0.00000 0.00000 0.00000" xyz="0.00000 -0.00000 0.00000"/>
      <geometry>
        <box size="0.70000 0.70000 0.10000"/>
      </geometry>
    </collision>
    <inertial>
      <inertia ixx="0.01042" ixy="0.00000" ixz="0.00000" iyy="0.00151" iyz="0.00000" izz="0.01151"/>
      <origin rpy="0.00000 0.00000 0.00000" xyz="-0.00000 -0.00000 0.00000"/>
      <mass value="0.25000"/>
    </inertial>
    <visual name="hand_cube">
      <origin rpy="0.00000 0.00000 0.00000" xyz="-0.00000 -0.00000 0.00000"/>
      <geometry>
        <box size="0.70000 0.70000 0.10000"/>
      </geometry>
    </visual>
  </link>
  <link name="hand_cylinder_link">
    <collision name="hand_cylinder_collision">
      <origin rpy="0.00000 0.00000 0.00000" xyz="0.00000 -0.00000 0.00000"/>
      <geometry>
        <cylinder radius="0.10000" length="0.10000"/>
      </geometry>
    </collision>
    <inertial>
      <inertia ixx="0.00033" ixy="0.00000" ixz="0.00000" iyy="0.00033" iyz="0.00000" izz="0.00050"/>
      <origin rpy="0.00000 0.00000 0.00000" xyz="-0.00000 -0.00000 0.00000"/>
      <mass value="0.10000"/>
    </inertial>
    <visual name="hand_cylinder">
      <origin rpy="0.00000 0.00000 0.00000" xyz="-0.00000 -0.00000 0.00000"/>
      <geometry>
        <cylinder radius="0.10000" length="0.10000"/>
      </geometry>
    </visual>
  </link>
  <link name="left_finger_link">
    <collision name="left_finger_collision">
      <origin rpy="0.00000 0.00000 0.00000" xyz="-0.00000 -0.00000 -0.05744"/>
      <geometry>
        <box size="0.10000 0.05000 0.40000"/>
      </geometry>
    </collision>
    <inertial>
      <inertia ixx="0.00077" ixy="0.00000" ixz="0.00000" iyy="0.00083" iyz="0.00000" izz="0.00010"/>
      <origin rpy="0.00000 0.00000 0.00000" xyz="0.00000 -0.00000 0.00000"/>
      <mass value="0.10000"/>
    </inertial>
    <visual name="left_finger">
      <origin rpy="0.00000 0.00000 0.00000" xyz="-0.00000 -0.00000 -0.05744"/>
      <geometry>
        <box size="0.10000 0.05000 0.40000"/>
      </geometry>
    </visual>
  </link>
  <link name="right_finger_link">
    <collision name="right_finger_collision">
      <origin rpy="0.00000 0.00000 0.00000" xyz="-0.00000 -0.00000 -0.05744"/>
      <geometry>
        <box size="0.10000 0.05000 0.40000"/>
      </geometry>
    </collision>
    <inertial>
      <inertia ixx="0.00077" ixy="0.00000" ixz="0.00000" iyy="0.00083" iyz="0.00000" izz="0.00010"/>
      <origin rpy="0.00000 0.00000 0.00000" xyz="0.00000 -0.00000 0.00000"/>
      <mass value="0.10000"/>
    </inertial>
    <visual name="right_finger">
      <origin rpy="0.00000 0.00000 0.00000" xyz="-0.00000 -0.00000 -0.05744"/>
      <geometry>
        <box size="0.10000 0.05000 0.40000"/>
      </geometry>
    </visual>
  </link>
  <link name="wheel_link">
    <collision name="wheel_collision">
      <origin rpy="0.00000 0.00000 0.00000" xyz="0.00000 0.00000 0.00000"/>
      <geometry>
        <mesh filename="../meshes/dae/Torus.dae" scale="0.20000 0.20000 0.50000"/>
      </geometry>
    </collision>
    <inertial>
      <inertia ixx="0.01774" ixy="0.00000" ixz="0.00000" iyy="0.02932" iyz="0.00000" izz="0.01774"/>
      <origin rpy="0.00000 0.00000 0.00000" xyz="0.00000 -0.00000 -0.00000"/>
      <mass value="1.00000"/>
    </inertial>
    <visual name="wheel">
      <origin rpy="0.00000 0.00000 0.00000" xyz="0.00000 0.00000 0.00000"/>
      <geometry>
        <mesh filename="../meshes/dae/Torus.dae" scale="0.20000 0.20000 0.50000"/>
      </geometry>
    </visual>
  </link>
  <link name="wheel_w2_link">
    <collision name="wheel_w2_collision">
      <origin rpy="0.00000 0.00000 0.00000" xyz="-0.00000 -0.00000 0.00000"/>
      <geometry>
        <mesh filename="../meshes/dae/Torus.001.dae" scale="0.20000 0.20000 0.50000"/>
      </geometry>
    </collision>
    <inertial>
      <inertia ixx="0.01774" ixy="0.00000" ixz="0.00000" iyy="0.02932" iyz="0.00000" izz="0.01774"/>
      <origin rpy="0.00000 0.00000 0.00000" xyz="-0.00000 -0.00000 0.00000"/>
      <mass value="1.00000"/>
    </inertial>
    <visual name="wheel_w2">
      <origin rpy="0.00000 0.00000 0.00000" xyz="-0.00000 -0.00000 0.00000"/>
      <geometry>
        <mesh filename="../meshes/dae/Torus.001.dae" scale="0.20000 0.20000 0.50000"/>
      </geometry>
    </visual>
  </link>
  <link name="wheel_w3_link">
    <collision name="wheel_w3_collision">
      <origin rpy="-3.14159 0.00000 -3.14159" xyz="0.00000 -0.00000 0.00000"/>
      <geometry>
        <mesh filename="../meshes/dae/Torus.002.dae" scale="0.20000 0.20000 0.50000"/>
      </geometry>
    </collision>
    <inertial>
      <inertia ixx="0.01774" ixy="-0.00000" ixz="-0.00000" iyy="0.02932" iyz="-0.00000" izz="0.01774"/>
      <origin rpy="0.00000 0.00000 0.00000" xyz="0.00000 -0.00000 0.00000"/>
      <mass value="1.00000"/>
    </inertial>
    <visual name="wheel_w3">
      <origin rpy="-0.00000 -0.00000 0.00000" xyz="0.00000 -0.00000 0.00000"/>
      <geometry>
        <mesh filename="../meshes/dae/Torus.002.dae" scale="0.20000 0.20000 0.50000"/>
      </geometry>
    </visual>
  </link>
  <link name="wheel_w4_link">
    <collision name="wheel_w4_collision">
      <origin rpy="-3.14159 0.00000 -3.14159" xyz="-0.00000 -0.00000 0.00000"/>
      <geometry>
        <mesh filename="../meshes/dae/Torus.006.dae" scale="0.20000 0.20000 0.50000"/>
      </geometry>
    </collision>
    <inertial>
      <inertia ixx="0.01774" ixy="-0.00000" ixz="-0.00000" iyy="0.02932" iyz="-0.00000" izz="0.01774"/>
      <origin rpy="0.00000 0.00000 0.00000" xyz="0.00000 -0.00000 0.00000"/>
      <mass value="1.00000"/>
    </inertial>
    <visual name="wheel_w4">
      <origin rpy="-0.00000 -0.00000 0.00000" xyz="0.00000 -0.00000 0.00000"/>
      <geometry>
        <mesh filename="../meshes/dae/Torus.006.dae" scale="0.20000 0.20000 0.50000"/>
      </geometry>
    </visual>
  </link>
</robot>
